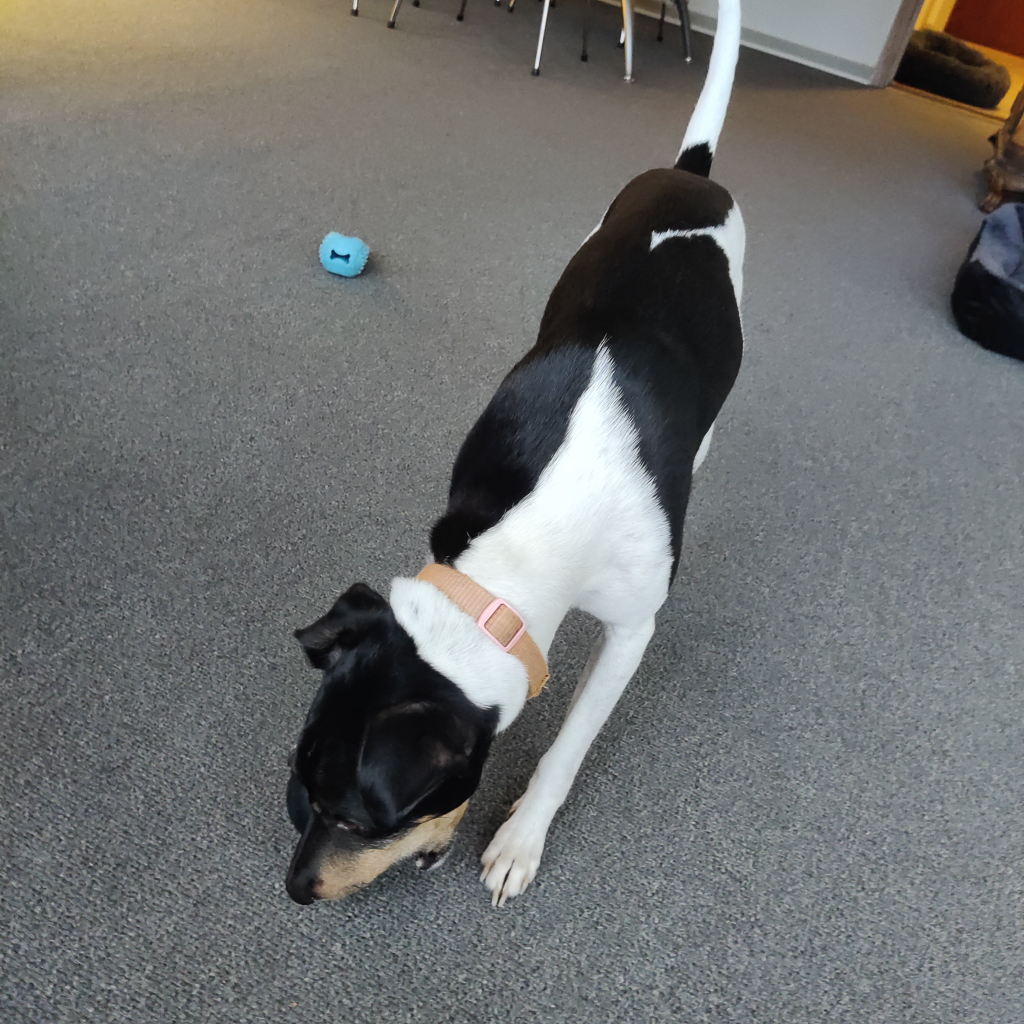Dog: (243, 0, 770, 928)
